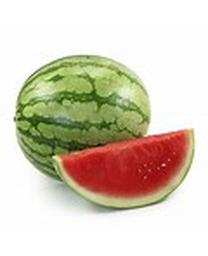watermelon: (15, 54, 152, 177), (51, 125, 199, 209)
